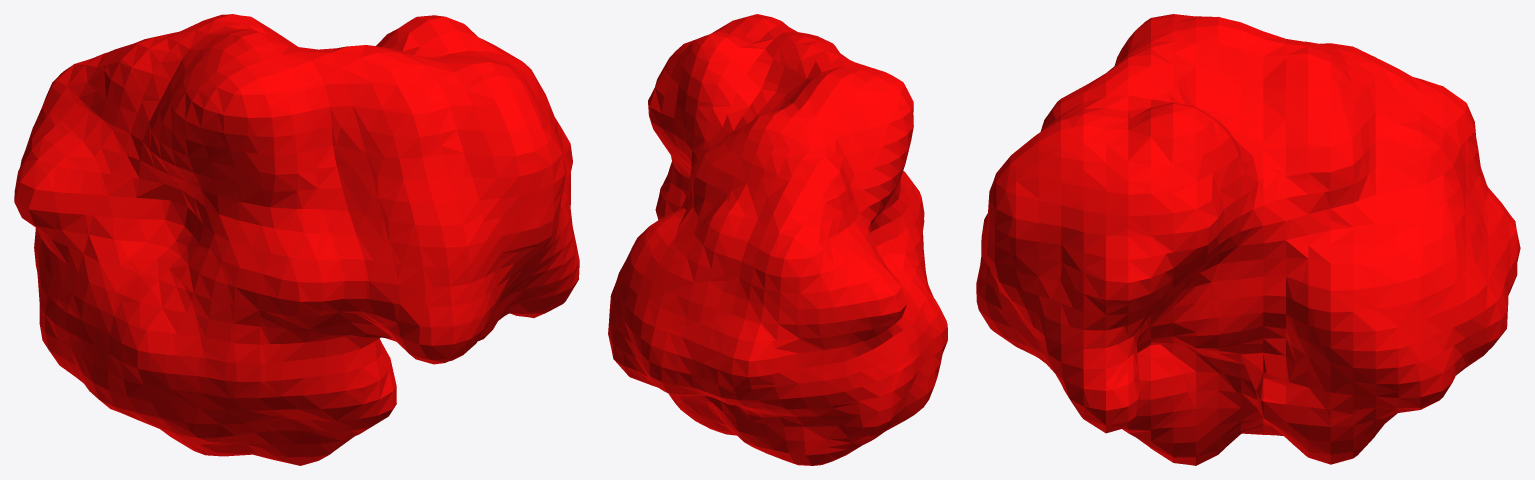
File: dusA_coarse.dae
3 views of the same model, side by side, from view 1: azimuth 30°, elevation 25°; view 2: azimuth 150°, elevation 25°; view 3: azimuth 270°, elevation 25° (orthographic). The views are drawn at different scales.
Visible parts, largest first — view 1: dusA; view 2: dusA; view 3: dusA.
Part boxes in pixels (x1,y1,x2,y2): dusA: [14, 14, 579, 465]; dusA: [608, 14, 947, 465]; dusA: [976, 14, 1520, 465].
Bounding box in the file's own units: 54.86 × 52.35 × 60.67.
